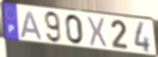0: (64, 14, 86, 46)
2: (111, 19, 130, 52)
4: (133, 21, 153, 54)
9: (43, 11, 62, 45)
A: (19, 10, 44, 41)
X: (86, 15, 108, 49)
